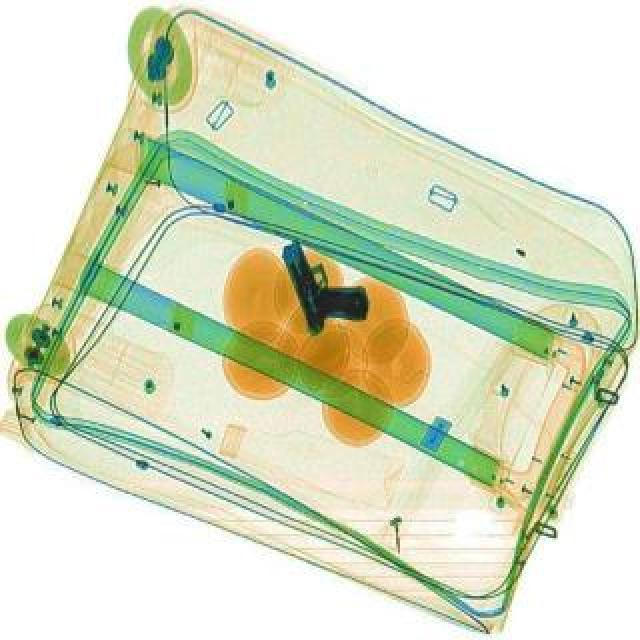gun: (280, 224, 380, 334)
